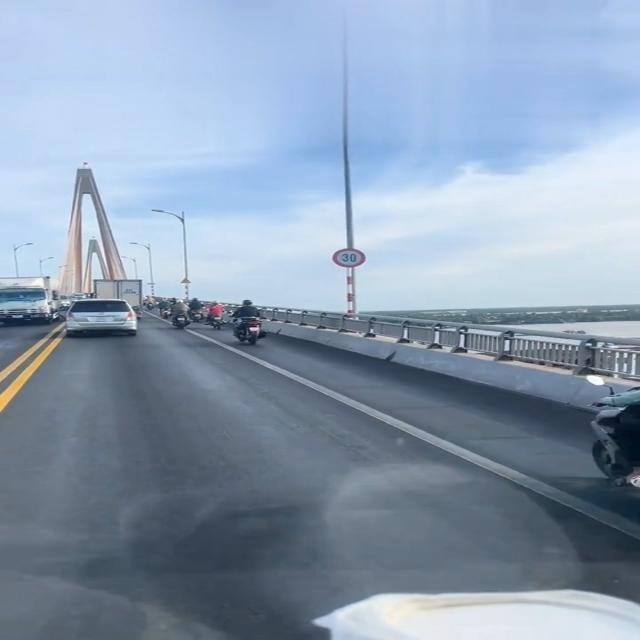127-toc-do-toi-da-30: (334, 248, 366, 267)
